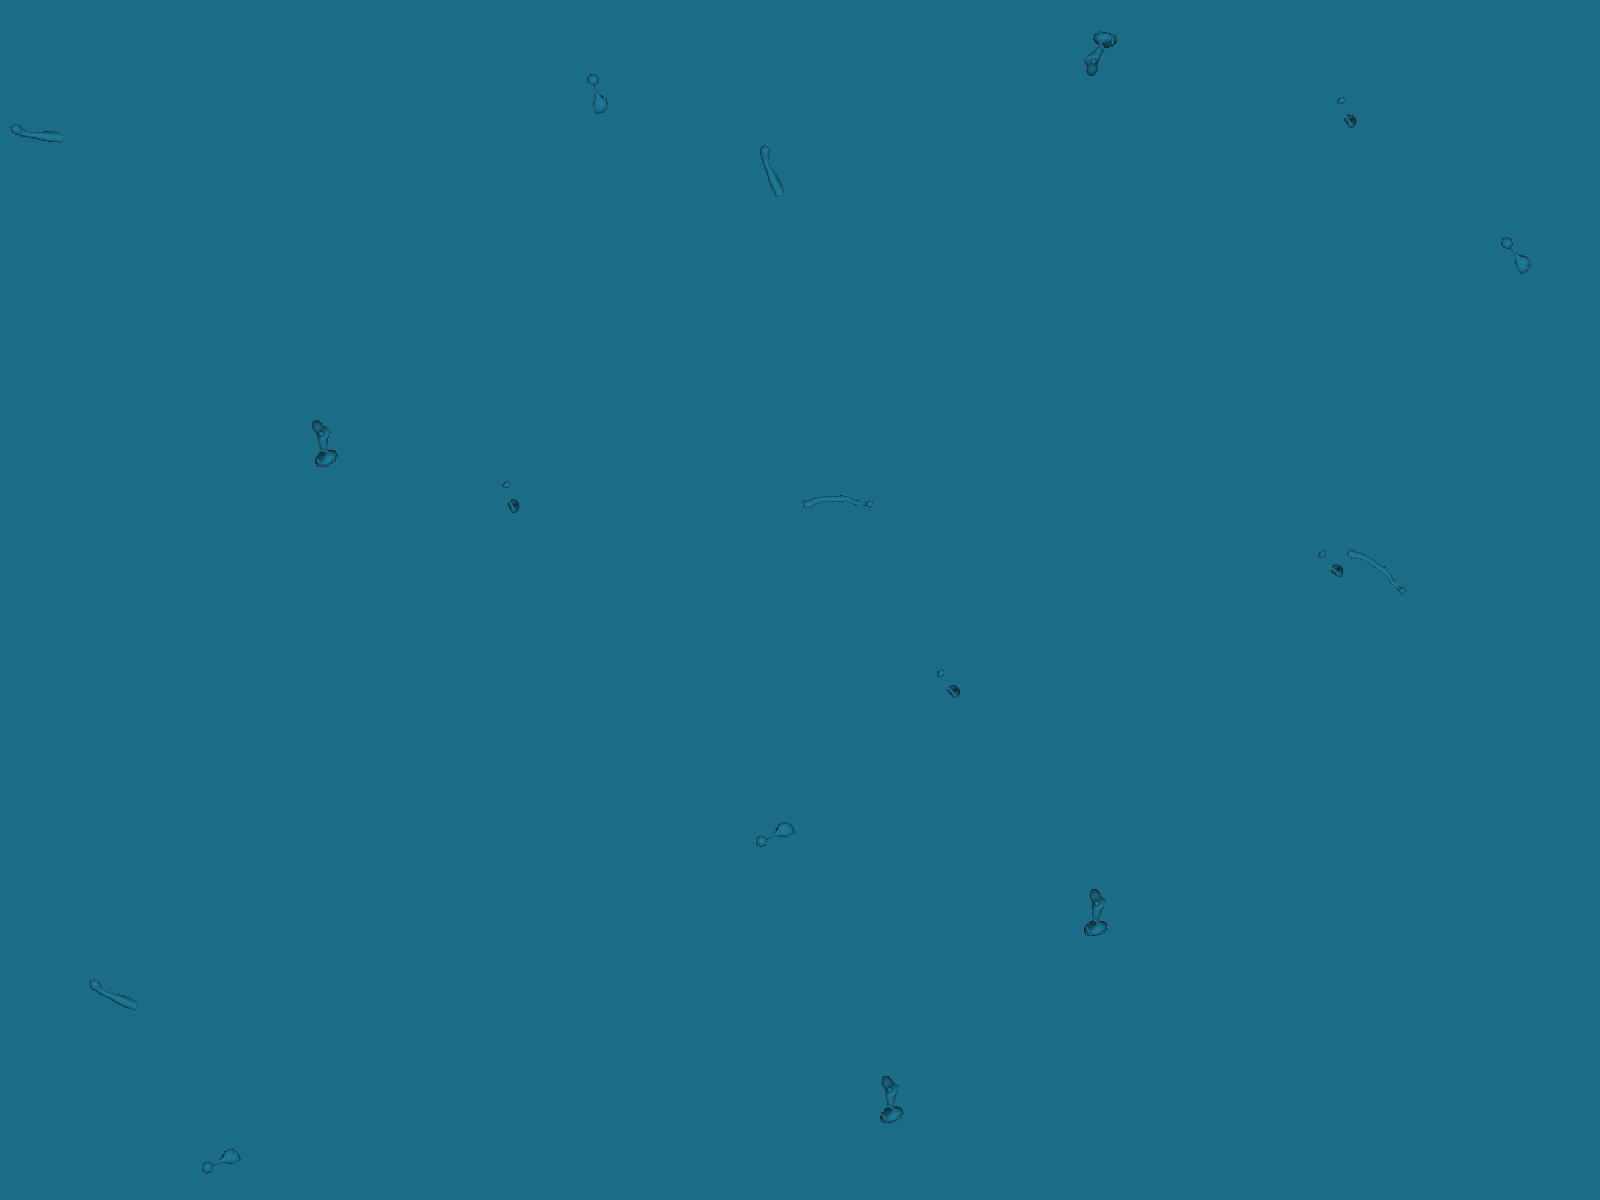Detached ligament: (1342, 534, 1411, 606), (797, 484, 876, 522), (1075, 25, 1121, 83), (84, 974, 144, 1016), (302, 413, 343, 471), (753, 141, 790, 202), (872, 1071, 908, 1126), (1495, 231, 1537, 277), (750, 816, 797, 853), (197, 1143, 244, 1179), (8, 120, 68, 147), (1081, 886, 1111, 938), (1327, 92, 1366, 131), (582, 69, 614, 117), (493, 476, 529, 516), (929, 666, 968, 701), (1310, 546, 1351, 580)
